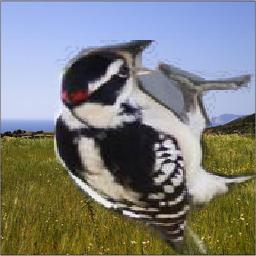Woodpecker: (54, 40, 256, 254)
